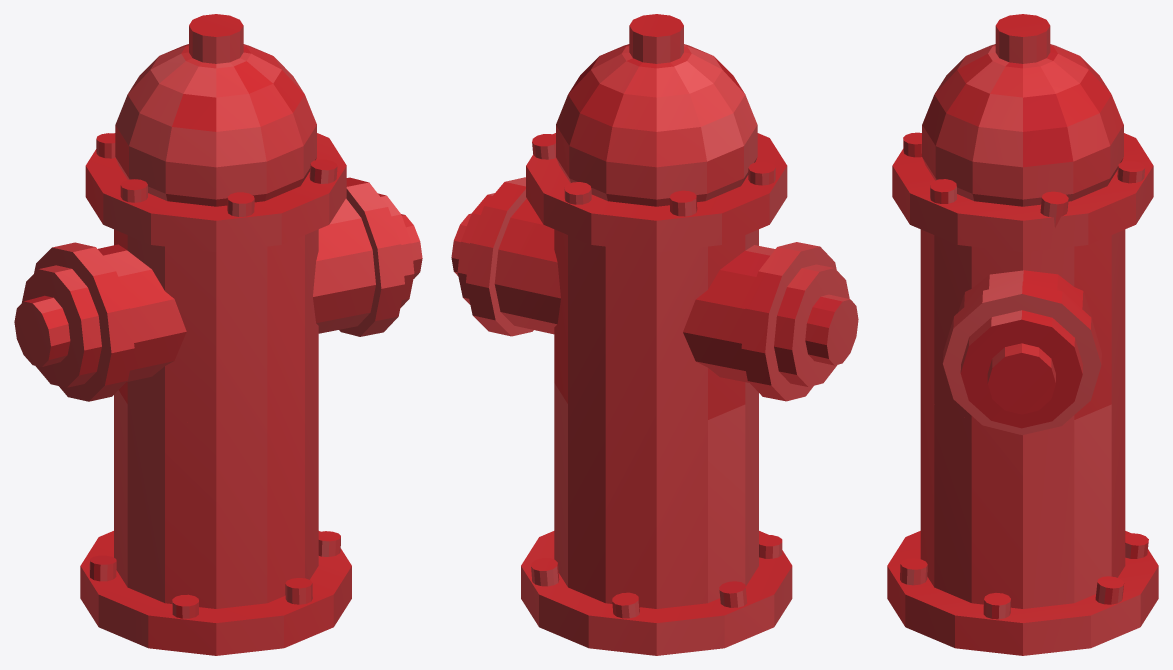
The model's file is BOCA DE INCENDIOS.fbx.
3 views of the same model, side by side, from view 1: azimuth 30°, elevation 25°; view 2: azimuth 150°, elevation 25°; view 3: azimuth 270°, elevation 25° (orthographic).
Parts seen in each view (by area): view 1: boca de incendios; view 2: boca de incendios; view 3: boca de incendios.
Boxes of the visible parts, left/top/right/bottom form: boca de incendios: left=14, top=14, right=422, bottom=655; boca de incendios: left=451, top=14, right=858, bottom=655; boca de incendios: left=887, top=14, right=1158, bottom=655.
Size of the model in its own units: 114 by 71.27 by 166.
1 material, 1 textured.
